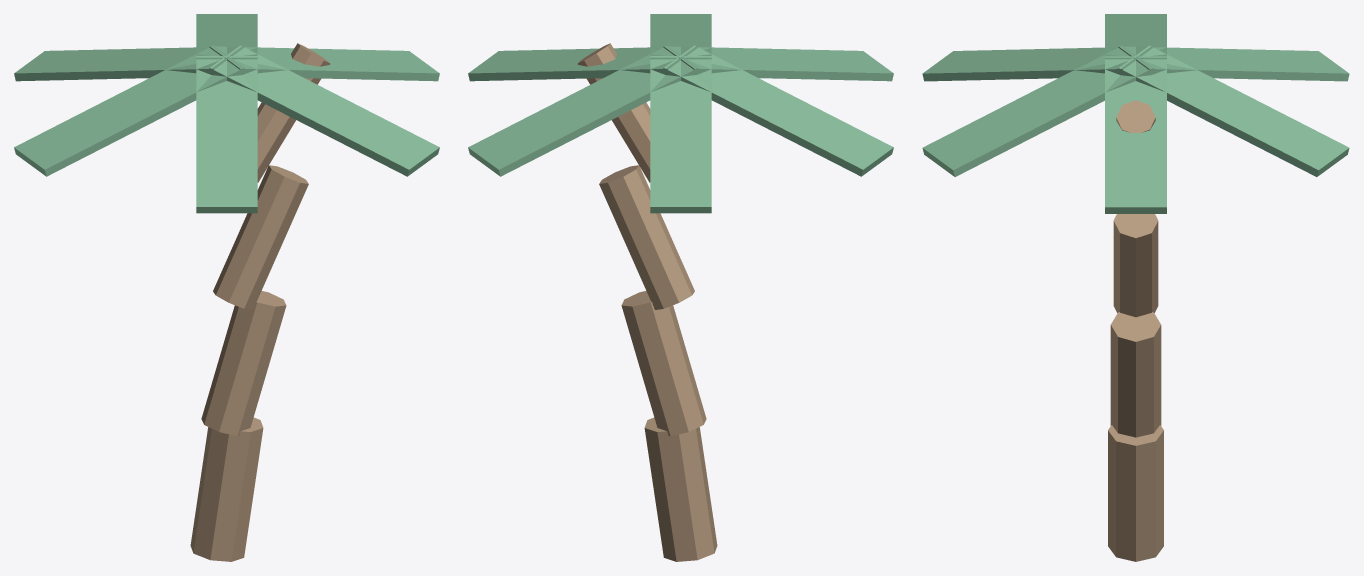
Rendered from palm.glb.
The picture shows the model from 3 angles, left to right: view 1: azimuth 30°, elevation 25°; view 2: azimuth 150°, elevation 25°; view 3: azimuth 270°, elevation 25°; orthographic projection.
Parts seen in each view (by area): view 1: palm; view 2: palm; view 3: palm.
Part boxes in pixels (left/top/right/bottom): palm: left=14, top=14, right=439, bottom=561; palm: left=468, top=14, right=893, bottom=561; palm: left=922, top=14, right=1349, bottom=561.
Bounding box in the file's own units: 3.26 × 3.91 × 3.04.
